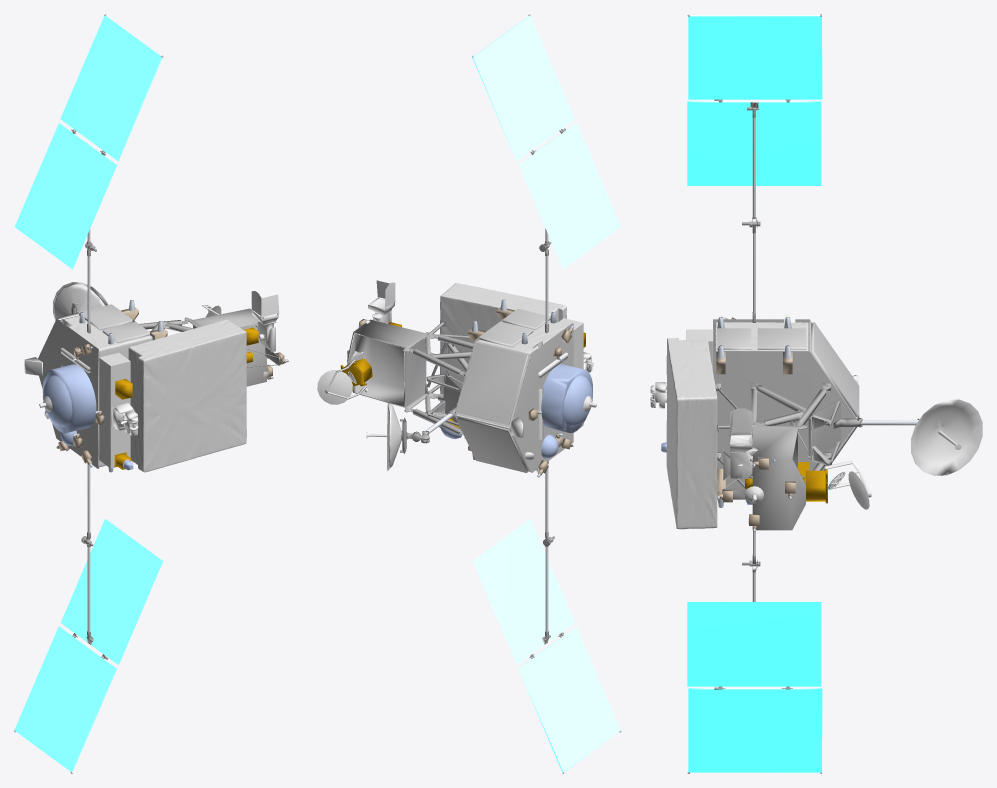
File: tropical-rainfall-measuring-mission-trmm.glb
3 renders of one model, left to right at view 1: azimuth 30°, elevation 25°; view 2: azimuth 150°, elevation 25°; view 3: azimuth 270°, elevation 25°, orthographic. The views are drawn at different scales.
Parts seen in each view (by area): view 1: TRMM [Solar Panels], TRMM [TRMM_Body], TRMM [Grey Surfaces], TRMM [Blue_Surfaces], TRMM [Silver Surfaces], TRMM [Microwave Imager], TRMM [TRMM_Structure], TRMM [Satellite Dish], TRMM [Microwave_Arm], TRMM [Brown Surfaces], TRMM [Sat/Solar_Arms], TRMM [Orange Surfaces]; view 2: TRMM [Solar Panels], TRMM [Grey Surfaces], TRMM [TRMM_Structure], TRMM [TRMM_Body], TRMM [Blue_Surfaces], TRMM [Silver Surfaces], TRMM [Sat/Solar_Arms], TRMM [Brown Surfaces], TRMM [Microwave_Arm], TRMM [Satellite Dish], TRMM [Microwave Imager], TRMM [CERES] (+1 smaller); view 3: TRMM [Solar Panels], TRMM [Grey Surfaces], TRMM [TRMM_Body], TRMM [TRMM_Structure], TRMM [Microwave_Arm], TRMM [Silver Surfaces], TRMM [Brown Surfaces], TRMM [Sat/Solar_Arms], TRMM [Satellite Dish], TRMM [Microwave_Body].
Boxes of the visible parts, left/top/right/bottom form: TRMM [Solar Panels]: left=14, top=15, right=163, bottom=772; TRMM [TRMM_Body]: left=128, top=319, right=246, bottom=472; TRMM [Grey Surfaces]: left=38, top=304, right=154, bottom=468; TRMM [Blue_Surfaces]: left=42, top=364, right=133, bottom=470; TRMM [Silver Surfaces]: left=24, top=291, right=279, bottom=451; TRMM [Microwave Imager]: left=99, top=352, right=130, bottom=468; TRMM [TRMM_Structure]: left=139, top=308, right=280, bottom=386; TRMM [Satellite Dish]: left=60, top=315, right=152, bottom=467; TRMM [Microwave_Arm]: left=53, top=282, right=108, bottom=320; TRMM [Brown Surfaces]: left=57, top=307, right=285, bottom=465; TRMM [Sat/Solar_Arms]: left=87, top=229, right=90, bottom=632; TRMM [Orange Surfaces]: left=114, top=327, right=258, bottom=469; TRMM [Solar Panels]: left=472, top=16, right=620, bottom=772; TRMM [Grey Surfaces]: left=454, top=308, right=573, bottom=472; TRMM [TRMM_Structure]: left=347, top=319, right=473, bottom=438; TRMM [TRMM_Body]: left=440, top=283, right=566, bottom=401; TRMM [Blue_Surfaces]: left=358, top=325, right=592, bottom=458; TRMM [Silver Surfaces]: left=317, top=280, right=596, bottom=472; TRMM [Sat/Solar_Arms]: left=425, top=228, right=548, bottom=631; TRMM [Brown Surfaces]: left=347, top=307, right=572, bottom=475; TRMM [Microwave_Arm]: left=366, top=400, right=401, bottom=470; TRMM [Satellite Dish]: left=478, top=320, right=568, bottom=353; TRMM [Microwave Imager]: left=558, top=318, right=583, bottom=428; TRMM [CERES]: left=456, top=341, right=530, bottom=427; TRMM [Solar Panels]: left=687, top=15, right=822, bottom=772; TRMM [Grey Surfaces]: left=713, top=319, right=859, bottom=488; TRMM [TRMM_Body]: left=666, top=338, right=717, bottom=529; TRMM [TRMM_Structure]: left=715, top=383, right=840, bottom=530; TRMM [Microwave_Arm]: left=911, top=399, right=982, bottom=475; TRMM [Silver Surfaces]: left=650, top=313, right=871, bottom=523; TRMM [Brown Surfaces]: left=716, top=317, right=795, bottom=529; TRMM [Sat/Solar_Arms]: left=752, top=117, right=918, bottom=601; TRMM [Satellite Dish]: left=714, top=322, right=808, bottom=350; TRMM [Microwave_Body]: left=803, top=469, right=827, bottom=503.
Size of the model in its own units: 357 by 1012 by 376.
